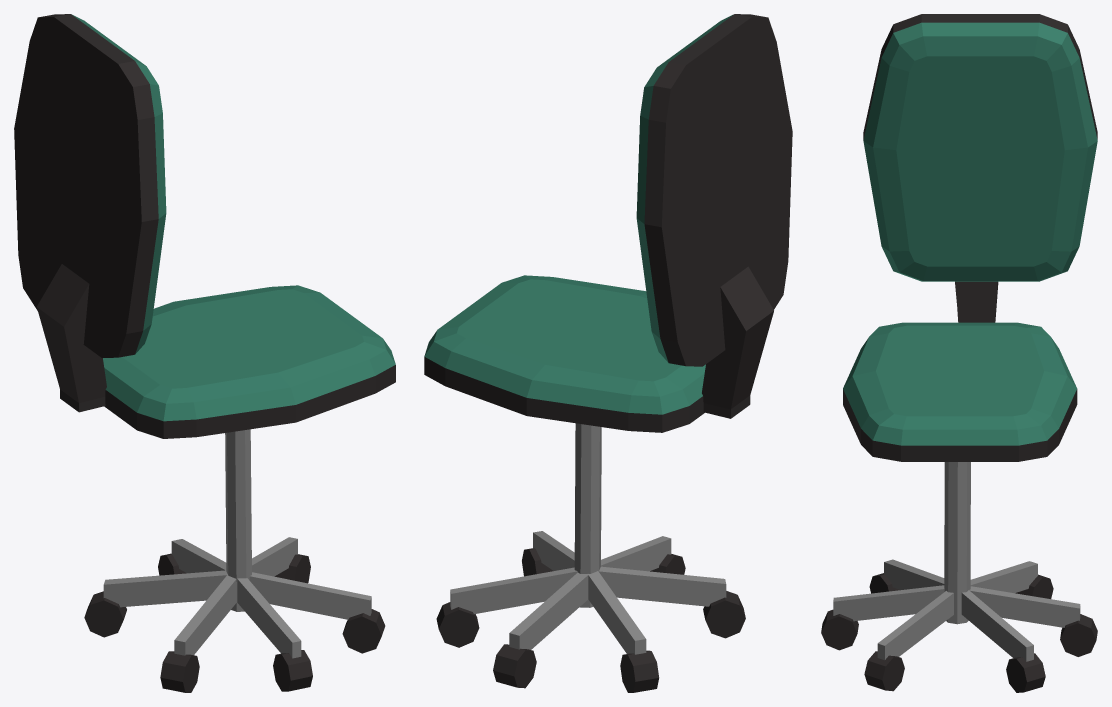
The model's file is RotatingChair.fbx.
3 views of the same model, side by side, from view 1: azimuth 30°, elevation 25°; view 2: azimuth 150°, elevation 25°; view 3: azimuth 270°, elevation 25° (orthographic). The views are drawn at different scales.
Visible parts, largest first — view 1: RotatingChair; view 2: RotatingChair; view 3: RotatingChair.
Boxes of the visible parts, x1,y1,x2,y2 form: RotatingChair: (14,14,395,692); RotatingChair: (424,14,792,692); RotatingChair: (821,14,1097,692).
Size of the model in its own units: 0.556 by 1.11 by 0.4839.
